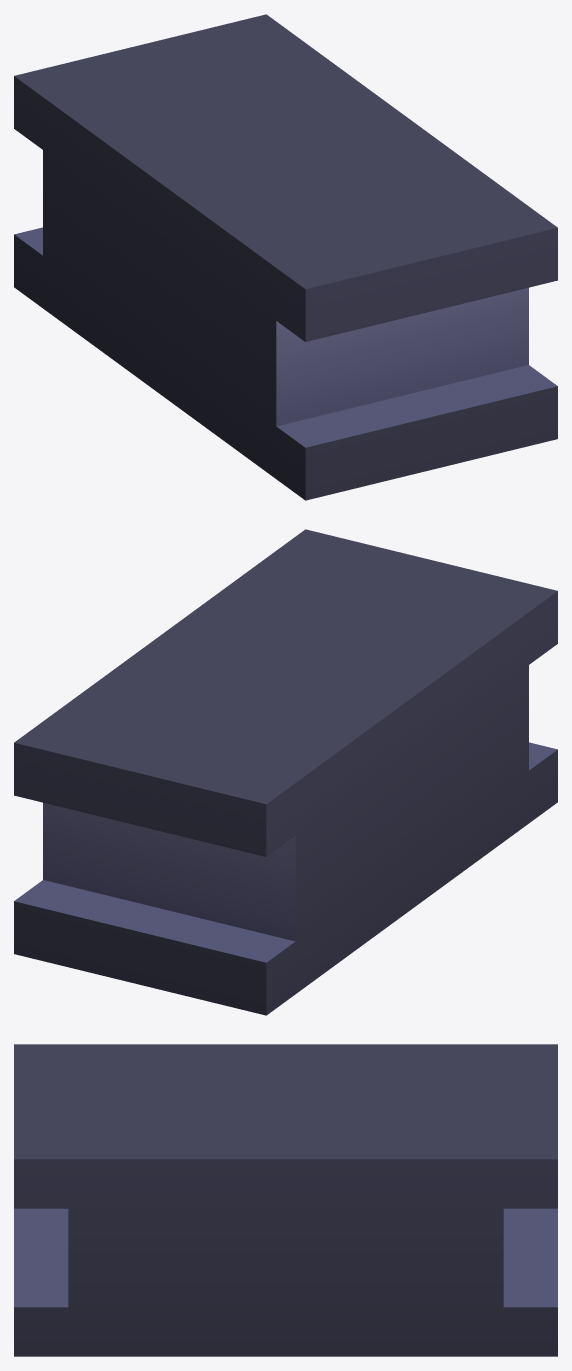
File: factory-kit--conveyor-long-part-middle.glb
3 renders of one model, top to bottom at view 1: azimuth 30°, elevation 25°; view 2: azimuth 150°, elevation 25°; view 3: azimuth 270°, elevation 25°, orthographic. The views are drawn at different scales.
Parts seen in each view (by area): view 1: conveyor-long-part-middle; view 2: conveyor-long-part-middle; view 3: conveyor-long-part-middle.
Part boxes in pixels (x1=…): conveyor-long-part-middle: x1=14, y1=14, x2=557, y2=500; conveyor-long-part-middle: x1=14, y1=529, x2=557, y2=1015; conveyor-long-part-middle: x1=14, y1=1044, x2=557, y2=1356.
Bounding box in the file's own units: 0.5 × 0.4 × 1.
Materials: 1 (1 with a texture image).
